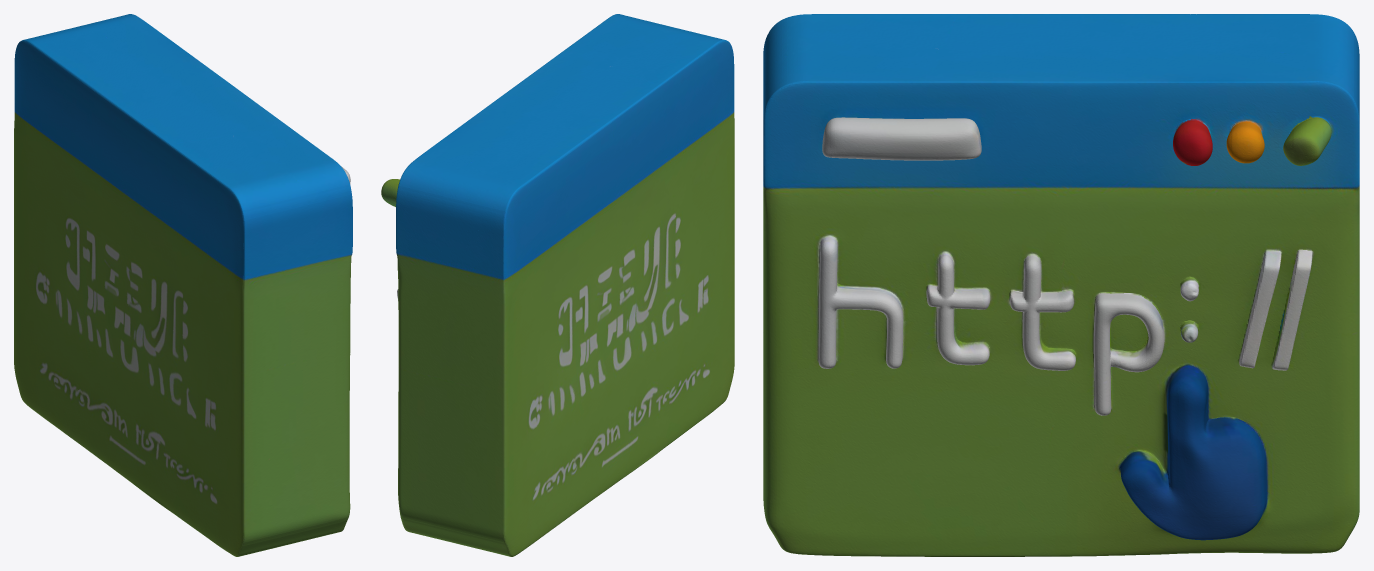
File: http.glb
3 views of the same model, side by side, from view 1: azimuth 30°, elevation 25°; view 2: azimuth 150°, elevation 25°; view 3: azimuth 270°, elevation 25° (orthographic). The views are drawn at different scales.
Visible parts, largest first — view 1: tripo_node_867dc5fa-68c5-437e-af54-2b7d2f51096e; view 2: tripo_node_867dc5fa-68c5-437e-af54-2b7d2f51096e; view 3: tripo_node_867dc5fa-68c5-437e-af54-2b7d2f51096e.
Part boxes in pixels (x1=…): tripo_node_867dc5fa-68c5-437e-af54-2b7d2f51096e: x1=14, y1=14, x2=352, y2=556; tripo_node_867dc5fa-68c5-437e-af54-2b7d2f51096e: x1=381, y1=14, x2=734, y2=556; tripo_node_867dc5fa-68c5-437e-af54-2b7d2f51096e: x1=763, y1=14, x2=1359, y2=556.
Bounding box in the file's own units: 0.3584 × 0.8774 × 1.
1 material, 1 textured.
